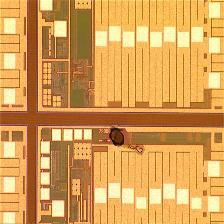PARTICLE: (107, 125, 146, 156)
